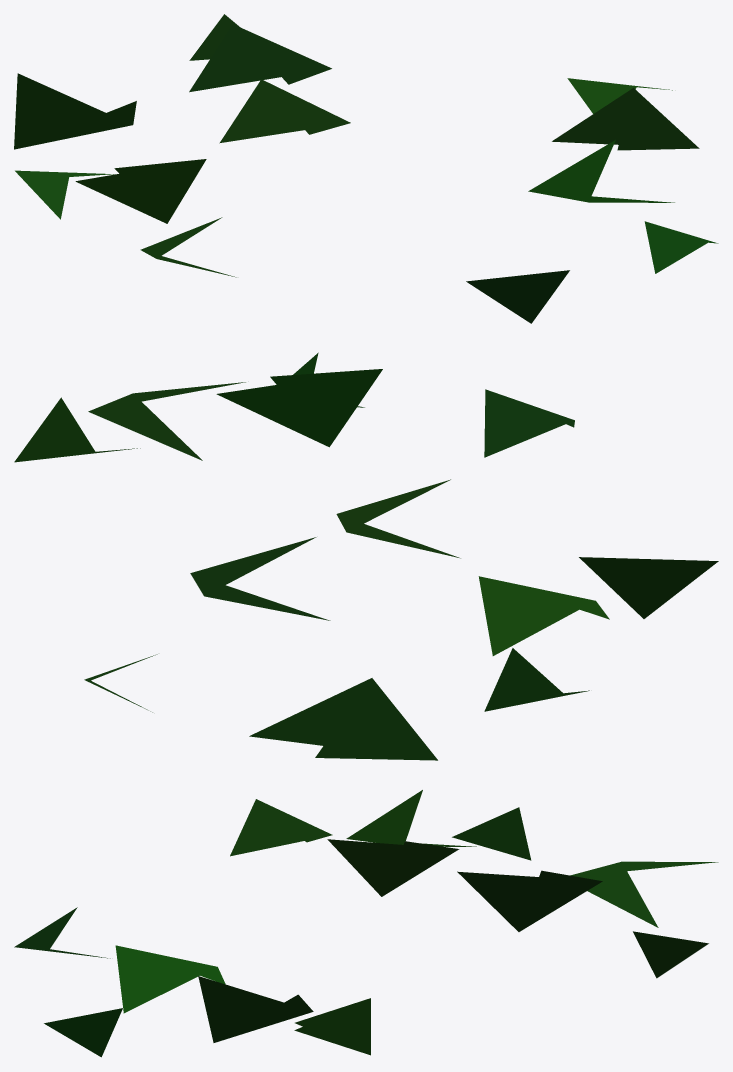
The model's file is GroundCover_Moss_01.glb.
The picture shows the model from 3 angles, top to bottom: view 1: azimuth 30°, elevation 25°; view 2: azimuth 150°, elevation 25°; view 3: azimuth 270°, elevation 25°; orthographic projection. The views are drawn at different scales.
Parts seen in each view (by area): view 1: GroundCover_Moss_01; view 2: GroundCover_Moss_01; view 3: GroundCover_Moss_01.
Boxes of the visible parts, x1=… form: GroundCover_Moss_01: x1=14, y1=14, x2=718, y2=323; GroundCover_Moss_01: x1=14, y1=352, x2=718, y2=760; GroundCover_Moss_01: x1=14, y1=790, x2=718, y2=1057.
Bounding box in the file's own units: 0.1751 × 0.0284 × 0.2045.
